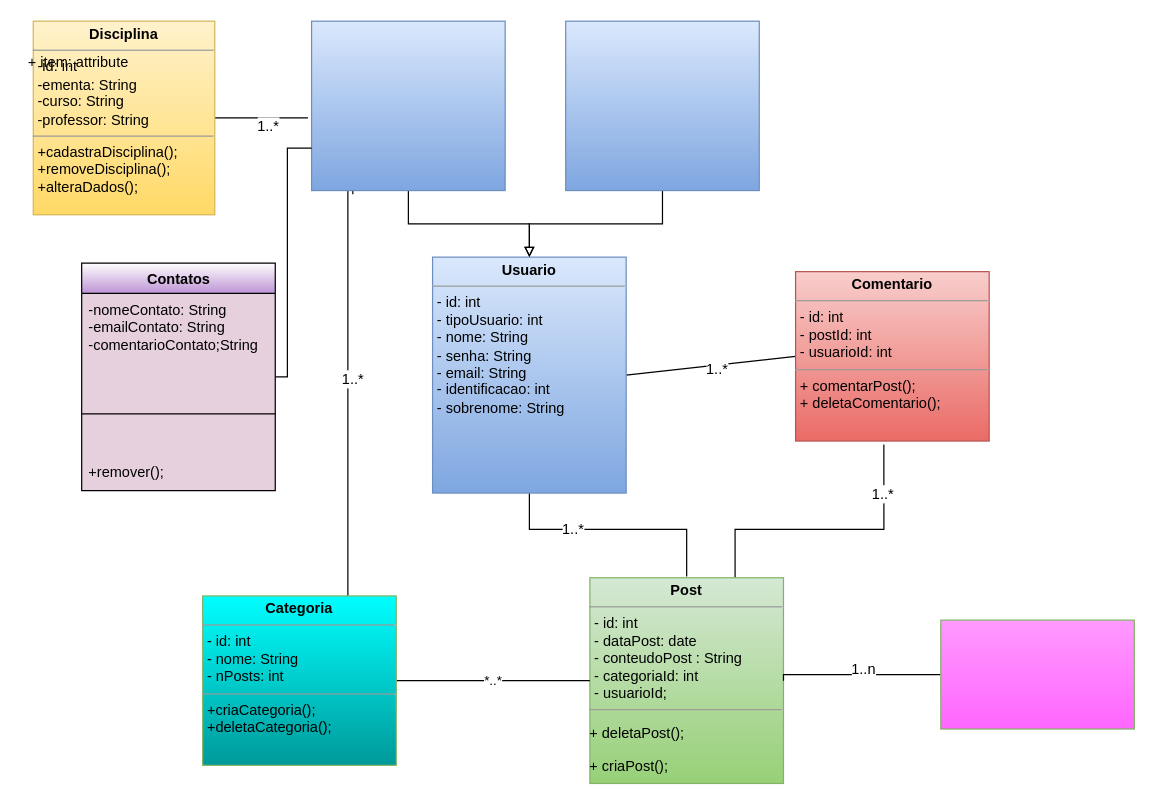
The diagram is 1156 pixels wide and 805 high, and some of its shapes have lost their labels. Here are the shapes that lost their labels. From the top down, the box of each, then its label:
(310, 20, 505, 191): Administrador - cadastro: int + cadastrarUsuario(); + verificaAdmin ();
(564, 20, 759, 191): Aluno - curso: int - matricula: int + efetuarCadastro(); +alteraCadastro();
(940, 619, 1134, 729): Notifica -id: int + enviaEmail();
